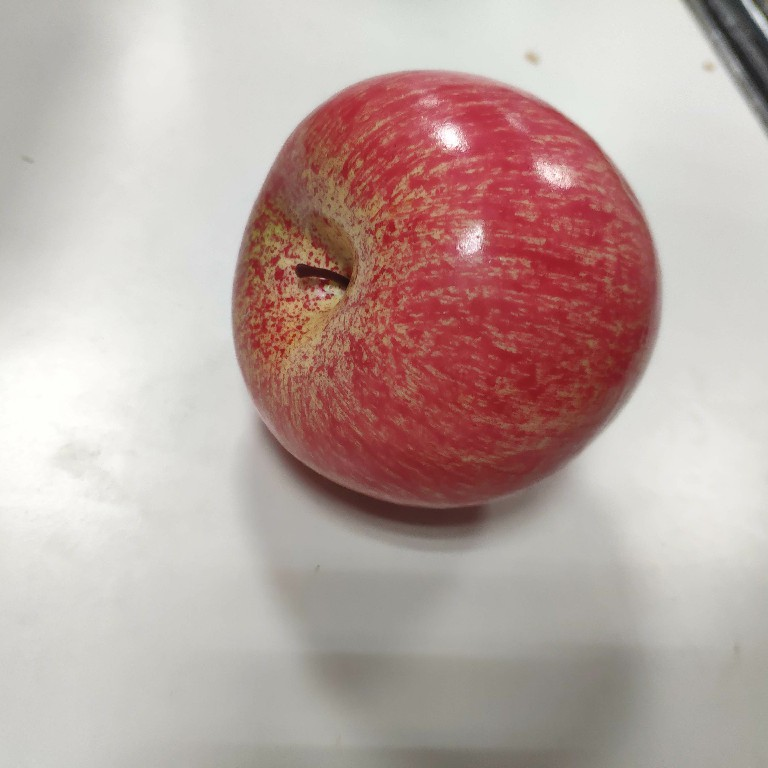fruit_apple: (229, 64, 668, 518)
